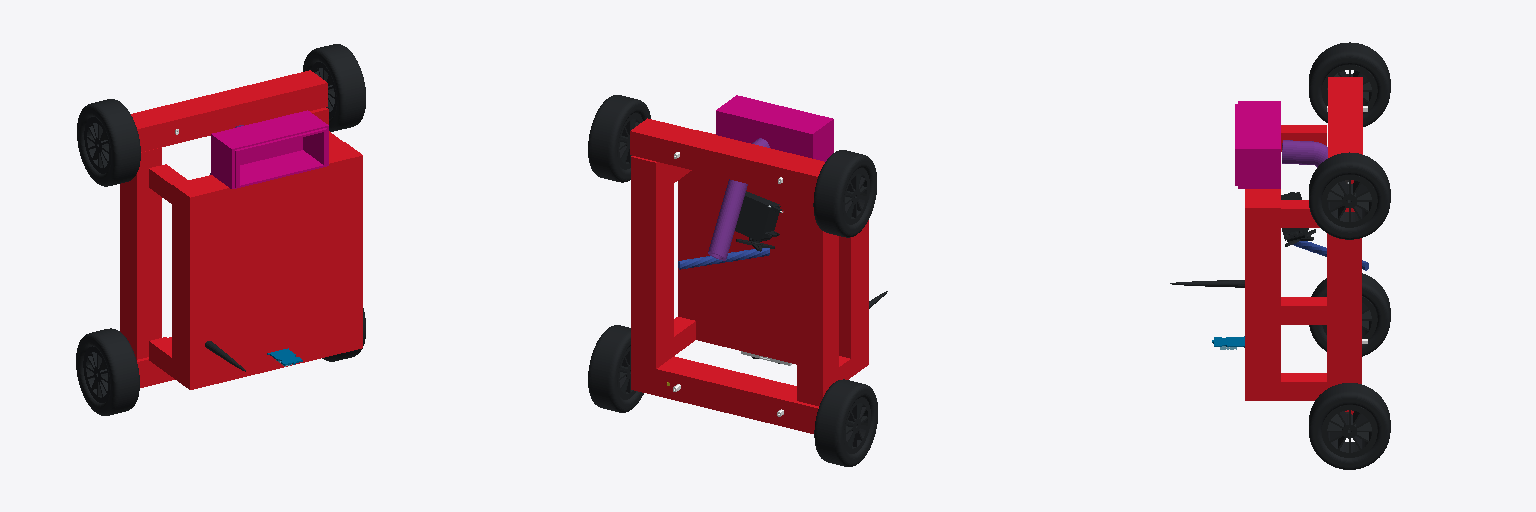
The model's file is tinker.obj.
3 renders of one model, left to right at view 1: azimuth 30°, elevation 25°; view 2: azimuth 150°, elevation 25°; view 3: azimuth 270°, elevation 25°, orthographic.
Parts seen in each view (by area): view 1: obj_0; view 2: obj_0; view 3: obj_0.
Part boxes in pixels (x1,y1,x2,y2): obj_0: (76,44,365,415); obj_0: (588,95,887,466); obj_0: (1170,42,1390,469).
Bounding box in the file's own units: 276 × 321 × 209.